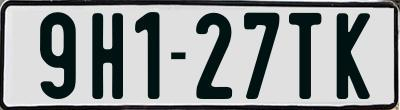1: (134, 11, 162, 100)
2: (196, 12, 236, 103)
7: (243, 13, 279, 99)
9: (38, 9, 77, 101)
H: (91, 12, 124, 100)
K: (334, 11, 373, 103)
T: (289, 12, 321, 101)
